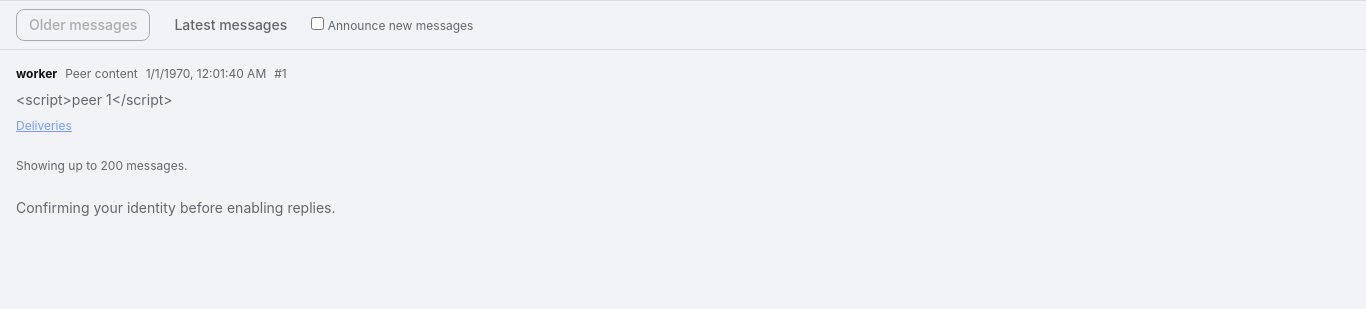
Test: message deliveries: a manager sees each recipient's trace
The image size is (1366, 309).
Click the button "Deliveries". click: click(44, 126)
box: [16,118,72,134]
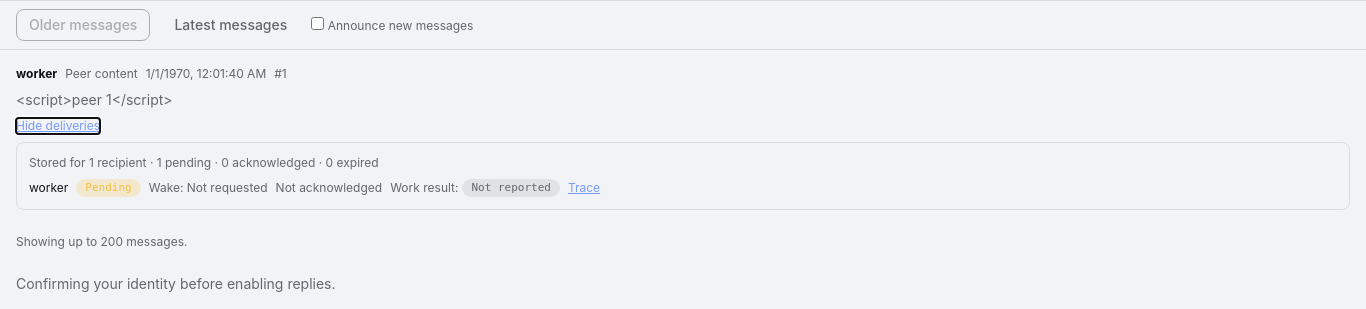
Result: the text "Stored for 1 recipient · 1 pending" is shown at [29,155,379,170]
Result: the button "Hide deliveries" is expanded at [16,118,100,134]
Result: the text "Work result:" is shown at [390,180,458,195]
